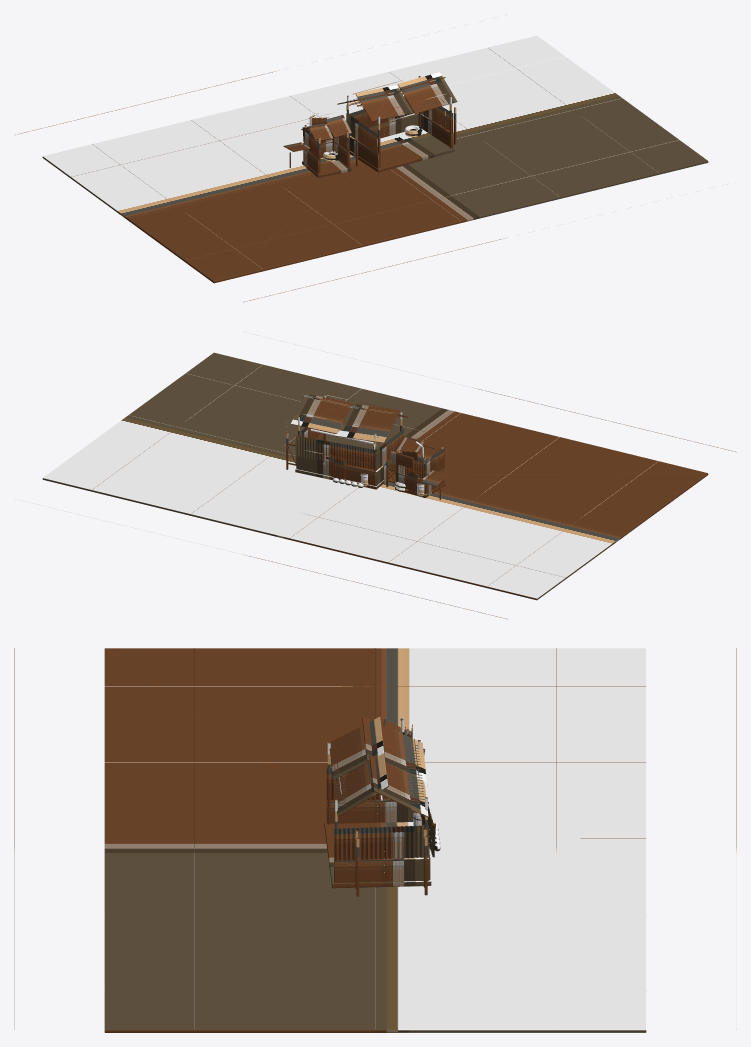
Rendered from sample.glb.
3 renders of one model, top to bottom at view 1: azimuth 30°, elevation 25°; view 2: azimuth 150°, elevation 25°; view 3: azimuth 270°, elevation 25°, orthographic. The views are drawn at different scales.
Parts seen in each view (by area): view 1: sample-sand-pad, sample-3x2-workshop-raised-floor, sample-3x2-workshop-varied-roof-panel-1-2, sample-3x2-workshop-varied-roof-panel-1-1, sample-3x2-workshop-side-tin--1, sample-3x2-workshop-front-plank-wall, sample-3x2-workshop-side-plank-1, sample-1x1-shack-raised-floor; view 2: sample-sand-pad, sample-3x2-workshop-varied-roof-panel--1-1, sample-3x2-workshop-varied-roof-panel--1-2, sample-3x2-workshop-front-tin, sample-3x2-workshop-front-plank-wall, sample-3x2-workshop-side-tin--1; view 3: sample-sand-pad, sample-3x2-workshop-side-tin-1, sample-3x2-workshop-side-plank-1, sample-3x2-workshop-varied-roof-panel-1-1, sample-3x2-workshop-varied-roof-panel--1-1, sample-3x2-workshop-varied-roof-panel-1-2, sample-3x2-workshop-varied-roof-panel--1-2, sample-3x2-workshop-side-plank--1, sample-3x2-workshop-raised-floor.
Part boxes in pixels (left/top/right/bottom): sample-sand-pad: left=42, top=35, right=708, bottom=283; sample-3x2-workshop-raised-floor: left=350, top=128, right=454, bottom=172; sample-3x2-workshop-varied-roof-panel-1-2: left=397, top=72, right=457, bottom=113; sample-3x2-workshop-varied-roof-panel-1-1: left=355, top=85, right=413, bottom=121; sample-3x2-workshop-side-tin--1: left=346, top=113, right=377, bottom=154; sample-3x2-workshop-front-plank-wall: left=350, top=113, right=418, bottom=138; sample-3x2-workshop-side-plank-1: left=420, top=114, right=453, bottom=148; sample-1x1-shack-raised-floor: left=302, top=157, right=351, bottom=177; sample-sand-pad: left=42, top=352, right=708, bottom=600; sample-3x2-workshop-varied-roof-panel--1-1: left=335, top=403, right=399, bottom=442; sample-3x2-workshop-varied-roof-panel--1-2: left=290, top=393, right=352, bottom=433; sample-3x2-workshop-front-tin: left=295, top=435, right=376, bottom=470; sample-3x2-workshop-front-plank-wall: left=296, top=456, right=375, bottom=485; sample-3x2-workshop-side-tin--1: left=375, top=429, right=404, bottom=470; sample-sand-pad: left=104, top=648, right=646, bottom=1032; sample-3x2-workshop-side-tin-1: left=334, top=824, right=428, bottom=860; sample-3x2-workshop-side-plank-1: left=334, top=857, right=428, bottom=882; sample-3x2-workshop-varied-roof-panel-1-1: left=329, top=717, right=384, bottom=779; sample-3x2-workshop-varied-roof-panel--1-1: left=362, top=717, right=427, bottom=784; sample-3x2-workshop-varied-roof-panel-1-2: left=333, top=753, right=388, bottom=816; sample-3x2-workshop-varied-roof-panel--1-2: left=369, top=755, right=428, bottom=817; sample-3x2-workshop-side-plank--1: left=326, top=799, right=414, bottom=823; sample-3x2-workshop-raised-floor: left=324, top=822, right=431, bottom=888.
Size of what is drawn, in the model's own units: 40 by 5.44 by 32.02.
Materials: 9 (9 with a texture image).
